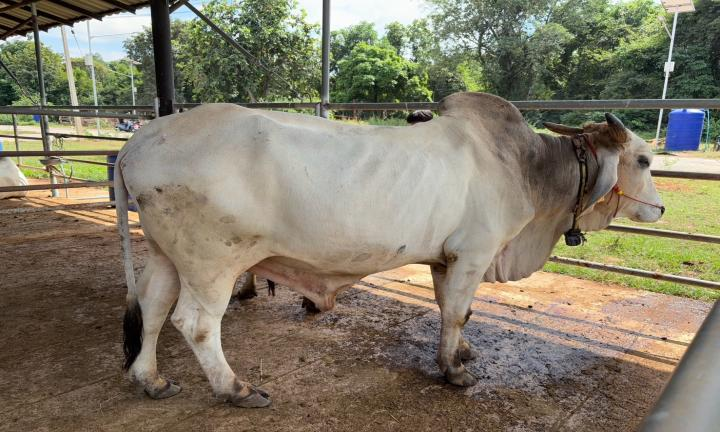Brahman: (115, 92, 664, 407)
